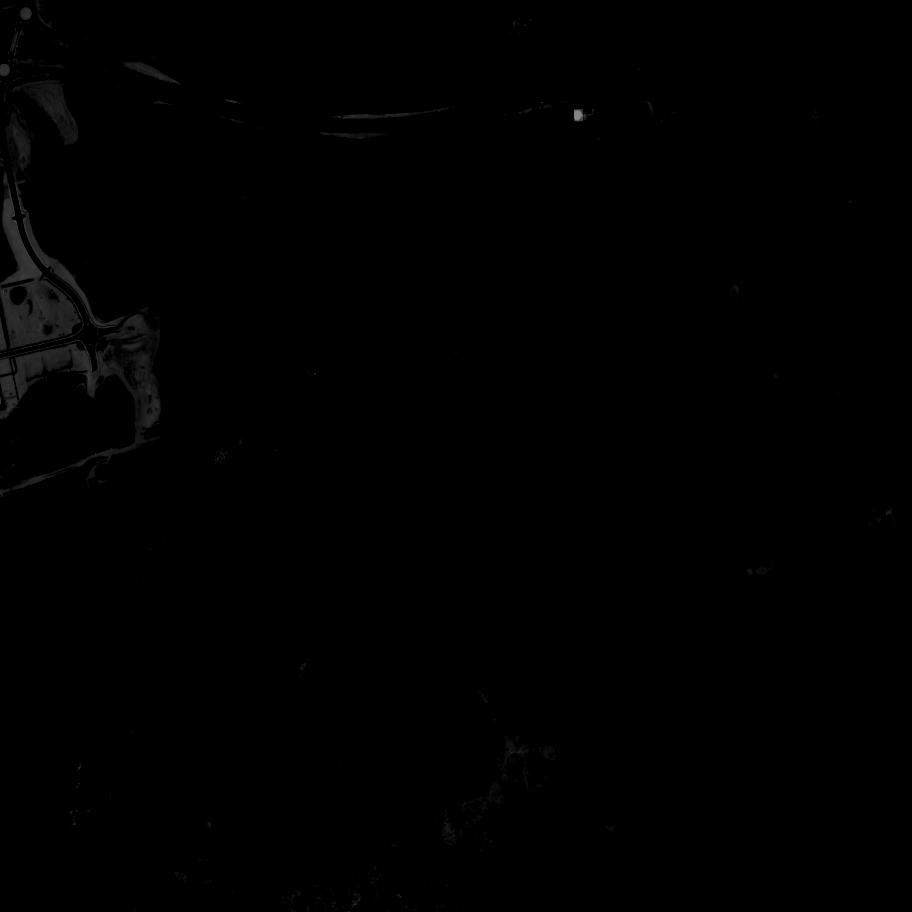storage-tank: (575, 109, 585, 122), (586, 107, 593, 115)
